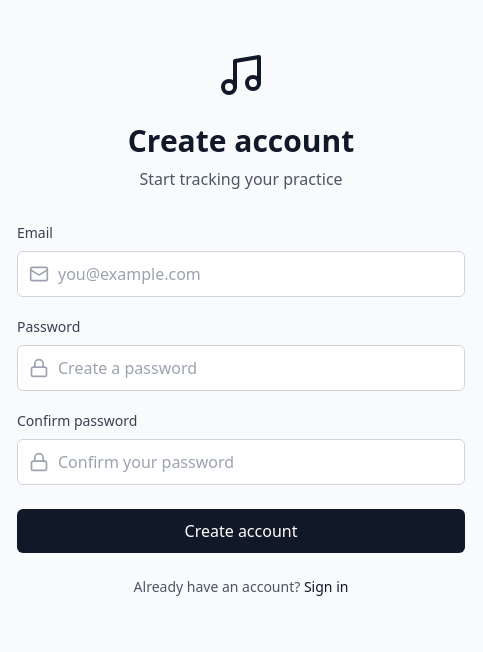
Signup › shows an error when password is too short
The width and height of the screenshot is (483, 652).
Type "test@example.com" into the field labelled "Email".
click(241, 274); type("test@example.com")  # box [17, 251, 465, 297]
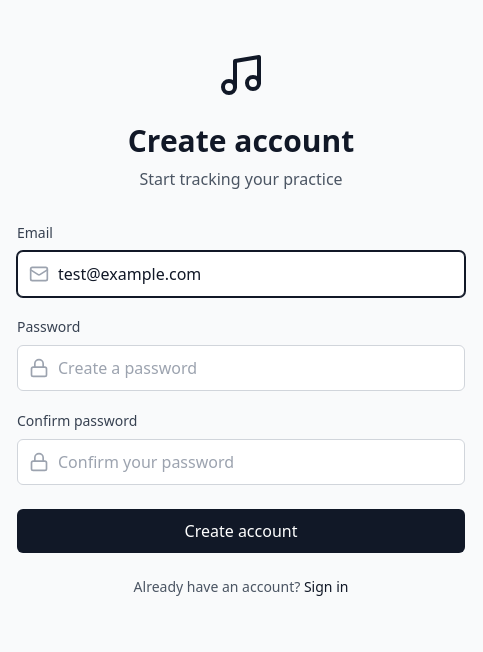
Type "abc" into the password field labelled "Password".
click(241, 368); type("abc")  # box [17, 345, 465, 391]
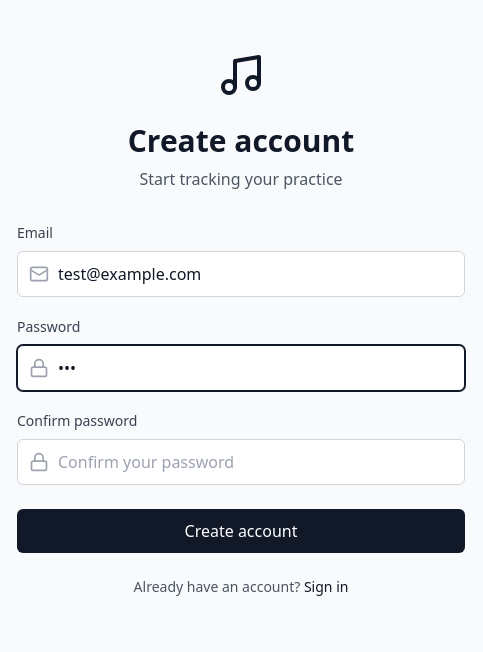
Type "abc" into the password field labelled "Confirm password".
click(241, 462); type("abc")  # box [17, 439, 465, 485]
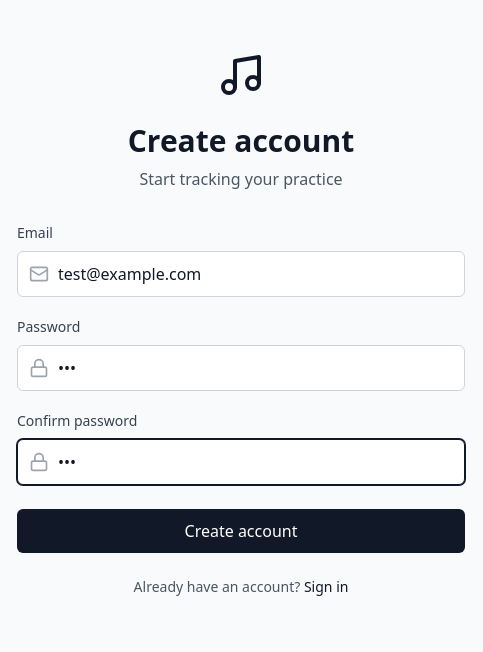
Click the button "Create account".
click(241, 531)  # box [17, 509, 465, 553]
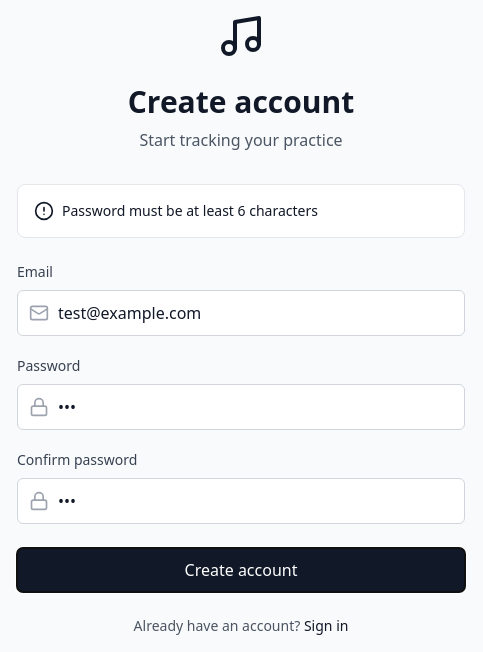
expect the text "Password must be at least 6 characters" is shown: met, box [62, 201, 318, 221]
